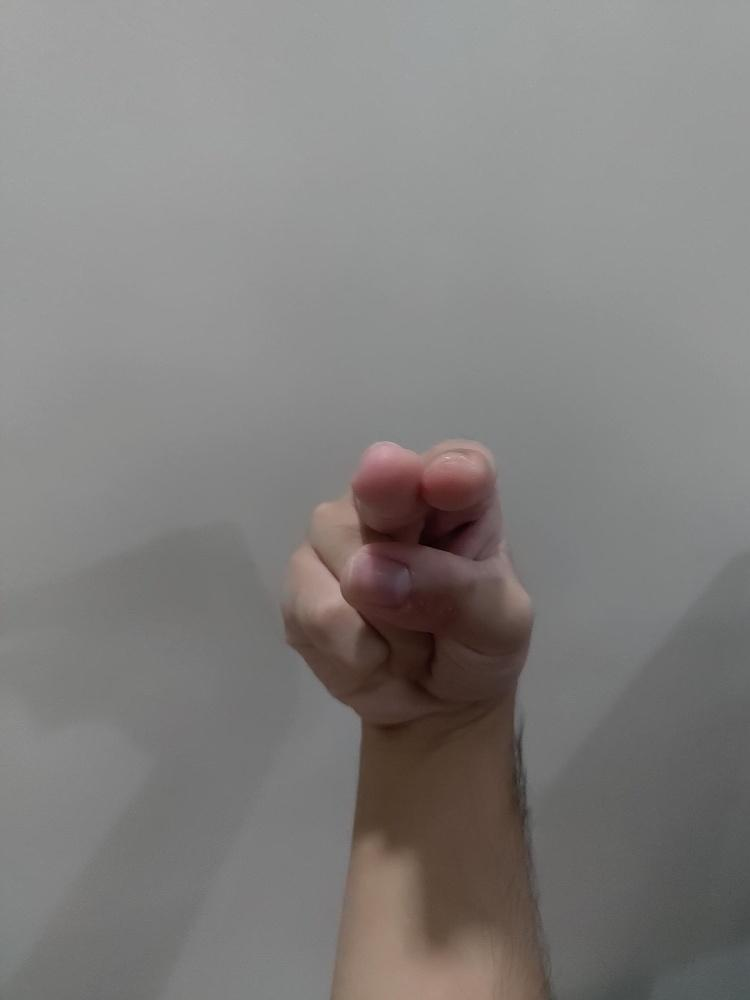n: (278, 435, 536, 727)
